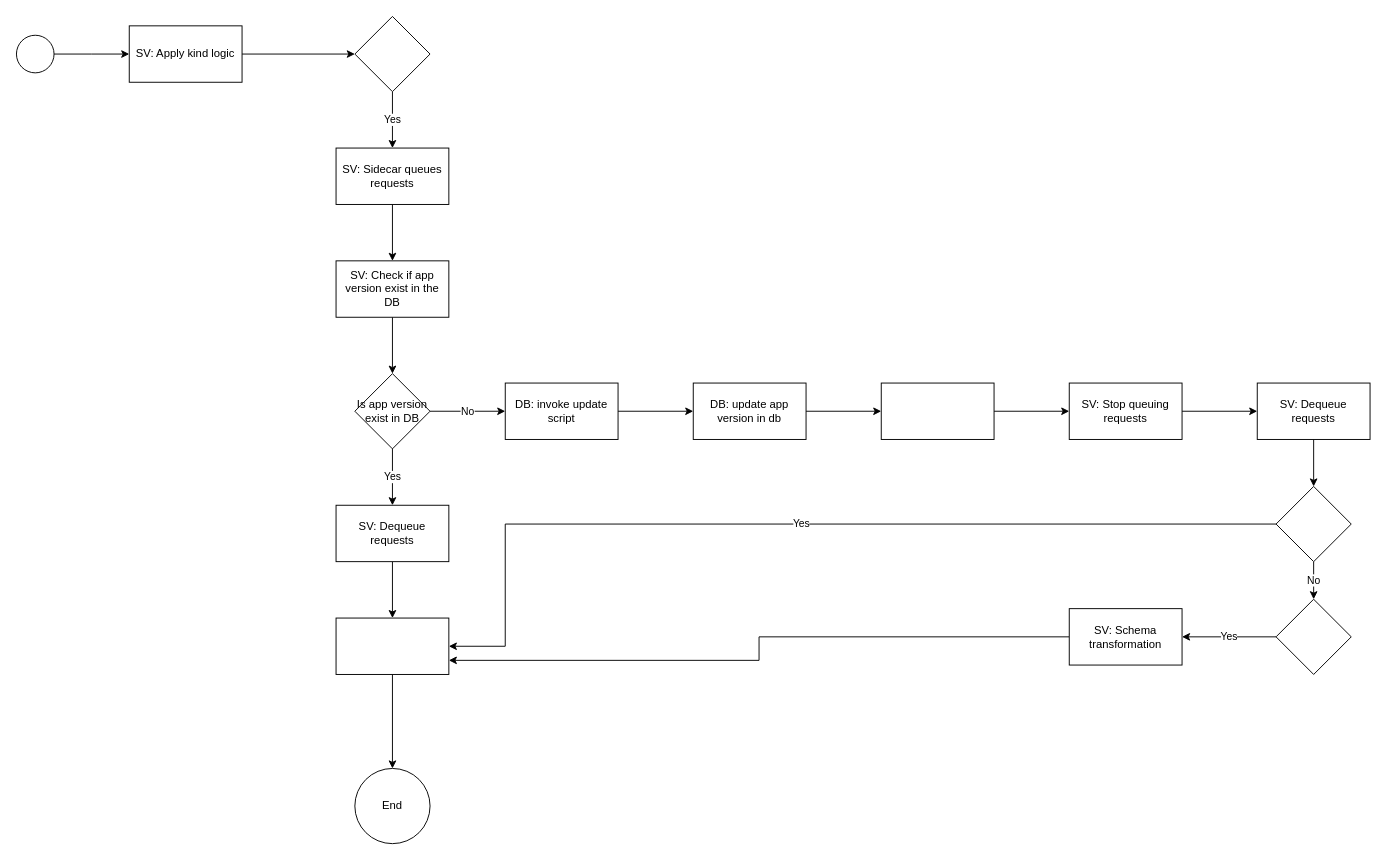
The diagram is 1387 pixels wide and 860 high, and some of its shapes have lost their labels. Here are the shapes that lost their labels. From the top down, the box of each, then its label:
(16, 34, 54, 73): Start
(354, 16, 430, 92): Has image changed?
(880, 382, 994, 439): SV: Deploy new app container
(1275, 486, 1351, 562): Is GET request
(335, 617, 449, 674): SV: Direct requests to the app container
(1275, 598, 1351, 674): Is POST / PUT / DELETE
